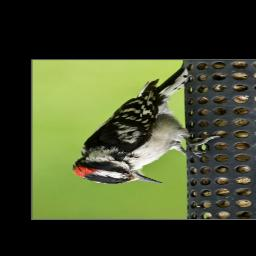Woodpecker: (73, 67, 216, 187)
